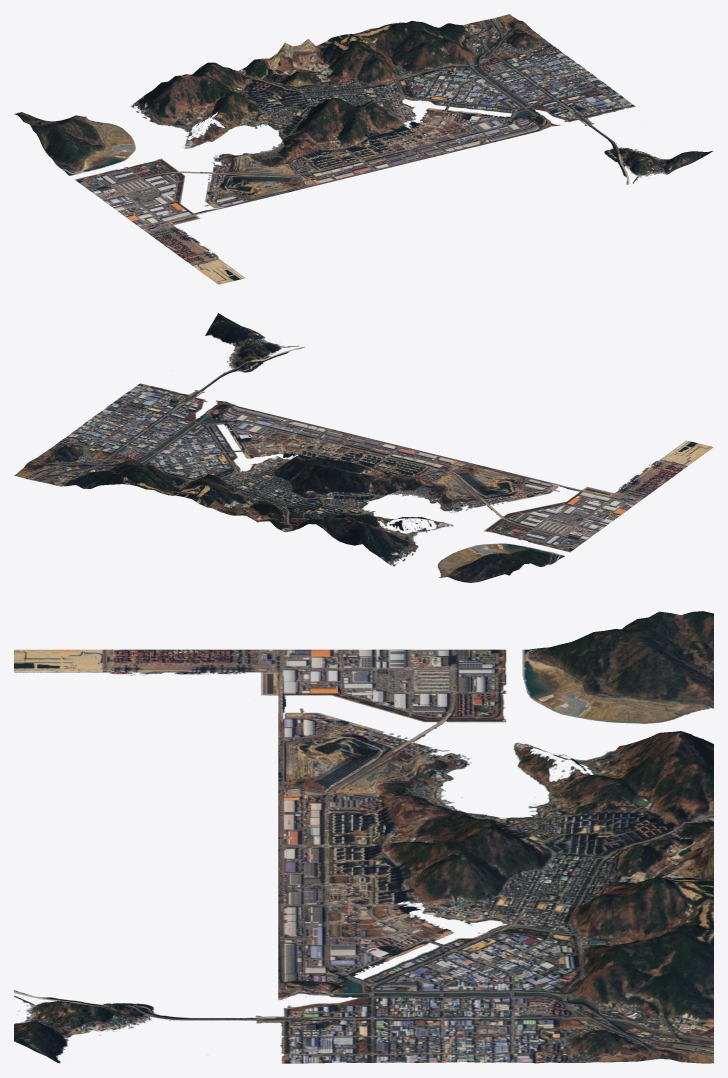
File: busan_geometry_opt.glb
3 renders of one model, top to bottom at view 1: azimuth 30°, elevation 25°; view 2: azimuth 150°, elevation 25°; view 3: azimuth 270°, elevation 25°, orthographic. The views are drawn at different scales.
Visible parts, largest first — view 1: EXPORT_GOOGLE_SAT_WM.001; view 2: EXPORT_GOOGLE_SAT_WM.001; view 3: EXPORT_GOOGLE_SAT_WM.001.
Part boxes in pixels (x1,y1,x2,y2): EXPORT_GOOGLE_SAT_WM.001: (14, 14, 712, 284); EXPORT_GOOGLE_SAT_WM.001: (14, 313, 713, 582); EXPORT_GOOGLE_SAT_WM.001: (14, 611, 713, 1063).
Size of the model in its own units: 8561 by 476 by 6115.
1 material, 1 textured.
